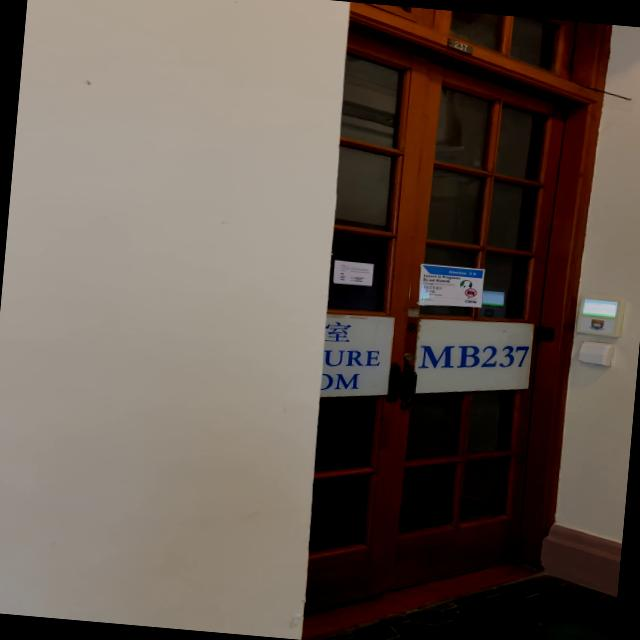room237: (437, 34, 481, 58)
room237Window: (420, 332, 530, 376)
